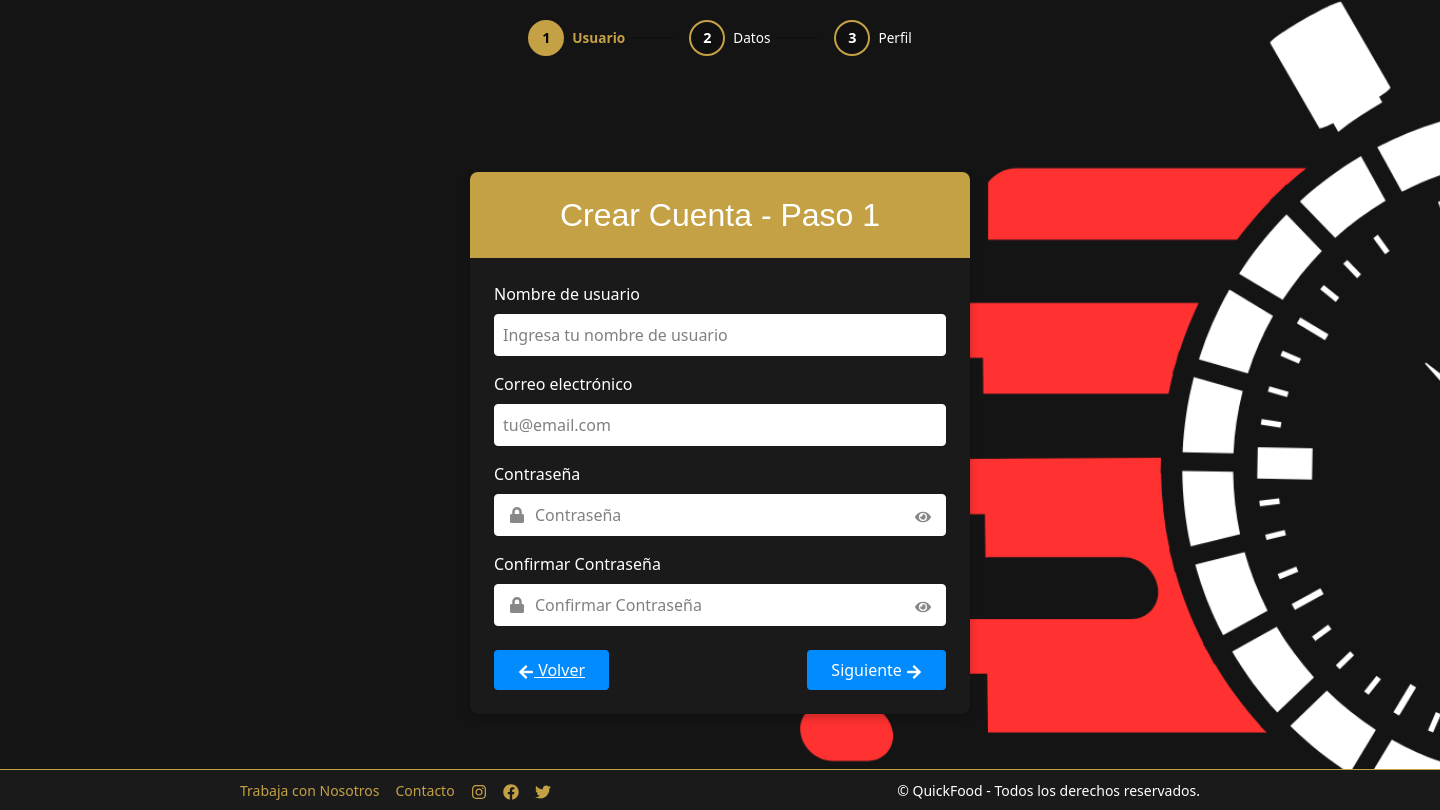
Test: Test de register › debe renderizar el proceso de registro parte 2
The width and height of the screenshot is (1440, 810).
Type "nombre" into the field labelled "Nombre de usuario" at point(720, 335), box [494,314,946,356]
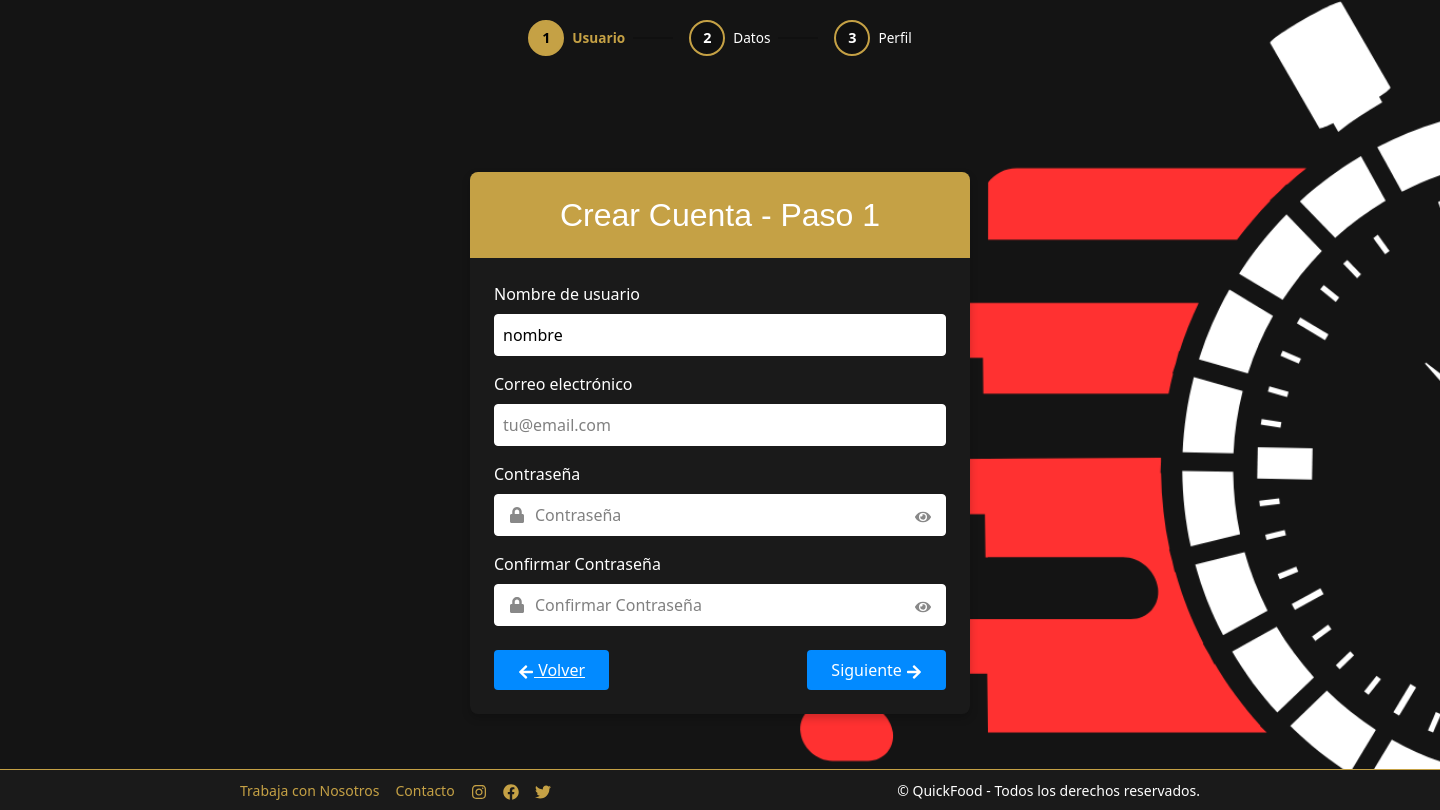
Type "email@gmail.com" into the field labelled "Correo electrónico" at point(720, 425), box [494,404,946,446]
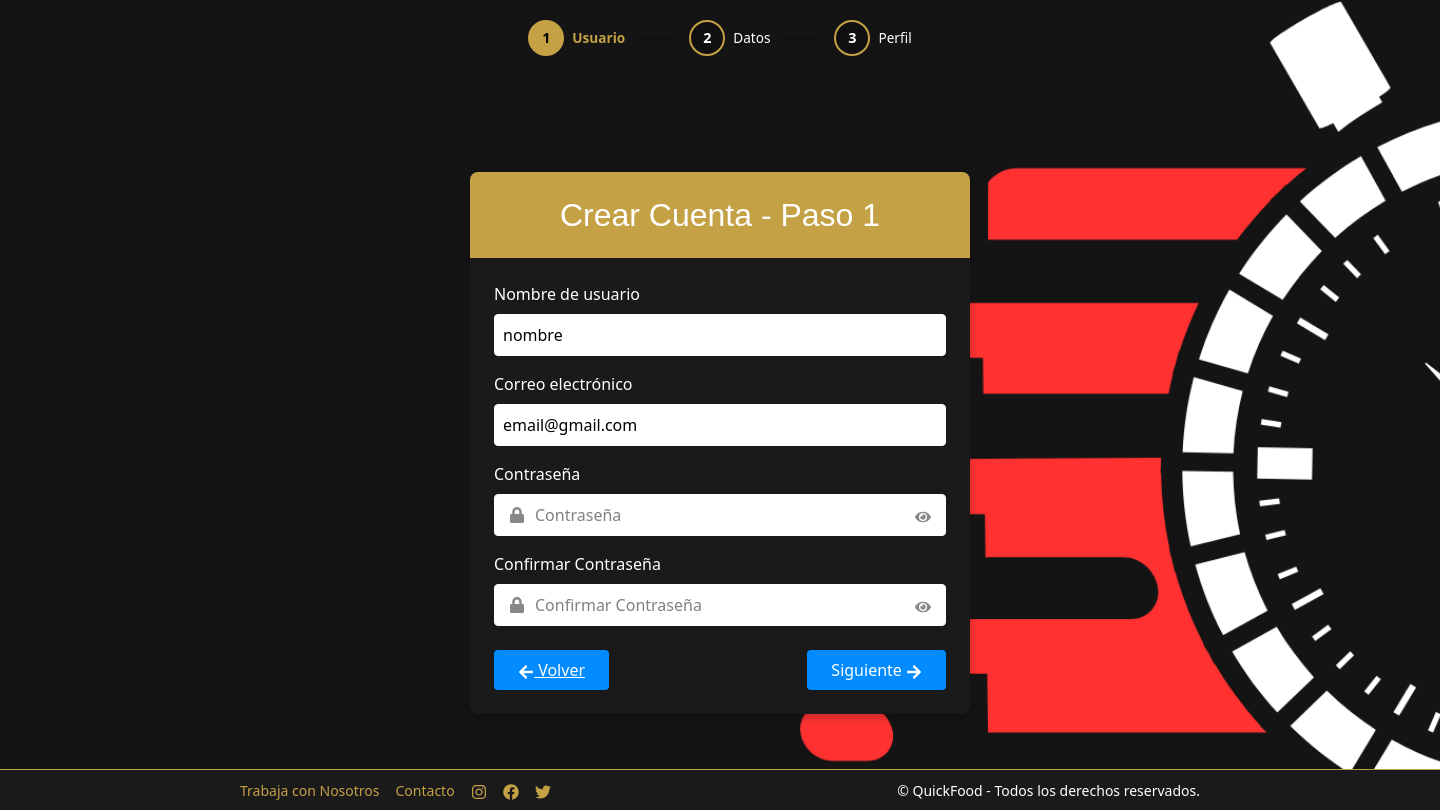
Type "password123" into the password field labelled "Contraseña" at point(720, 515), box [494,494,946,536]
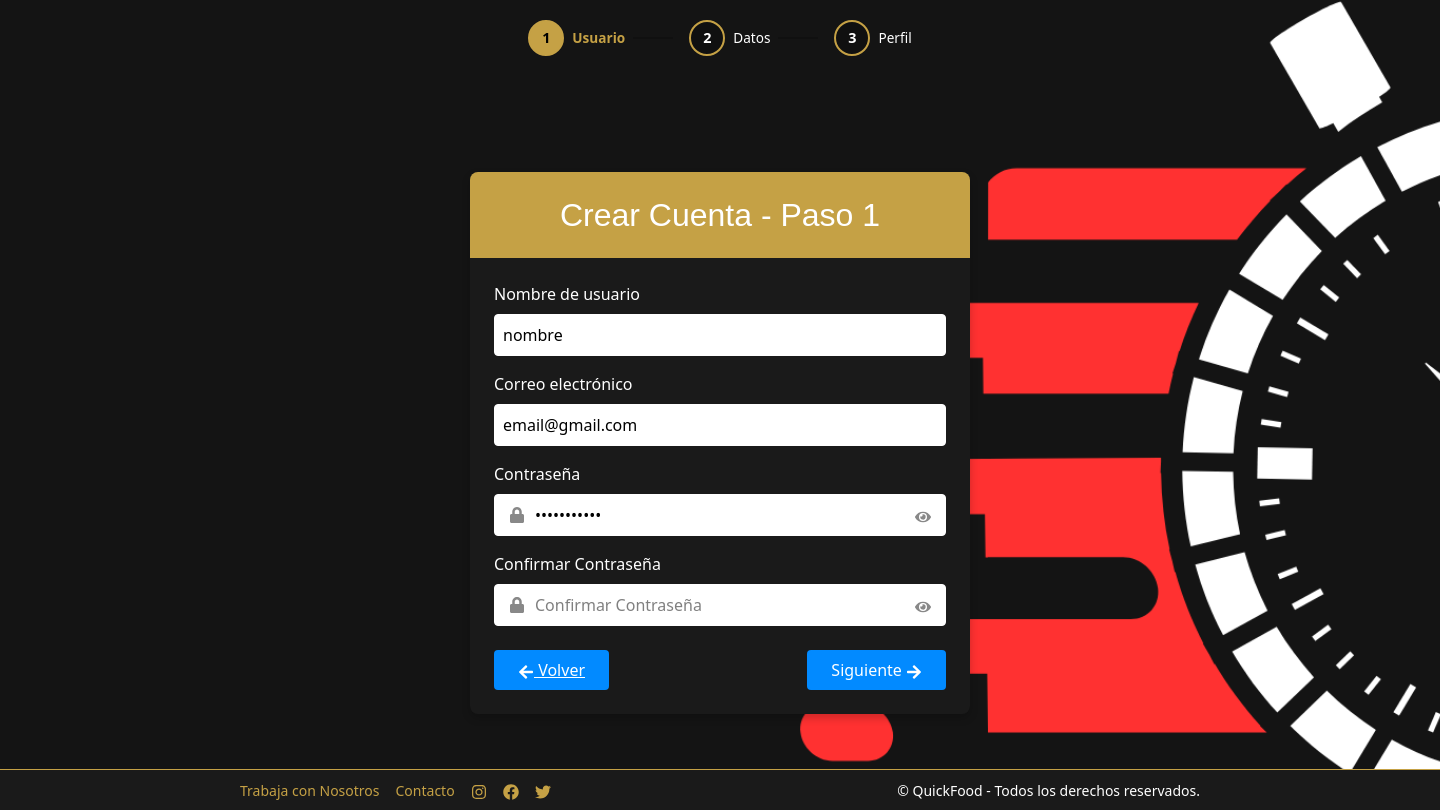
Type "password123" into the password field labelled "Confirmar Contraseña" at point(720, 605), box [494,584,946,626]
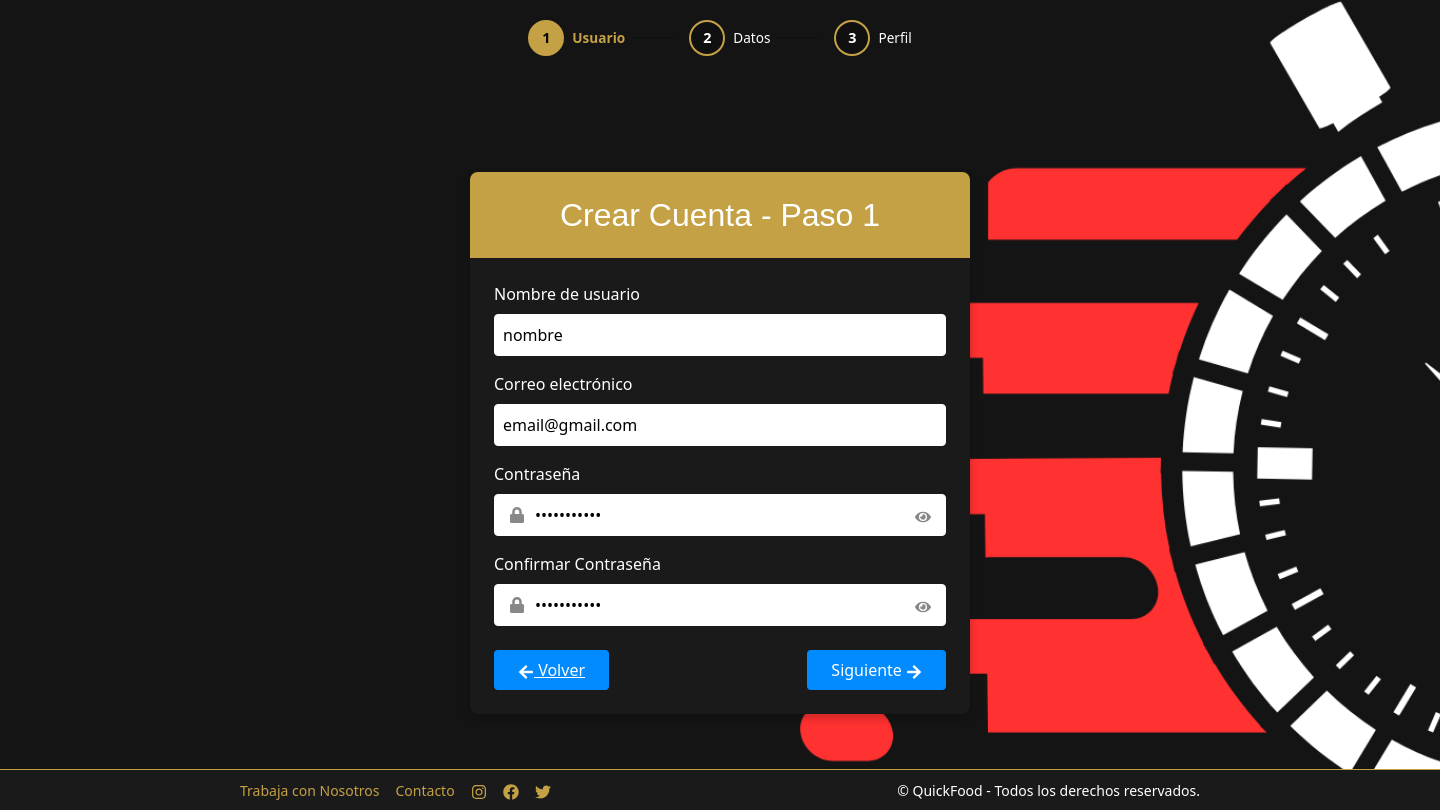
Click the button "Siguiente" at point(877, 670), box [807,650,946,690]
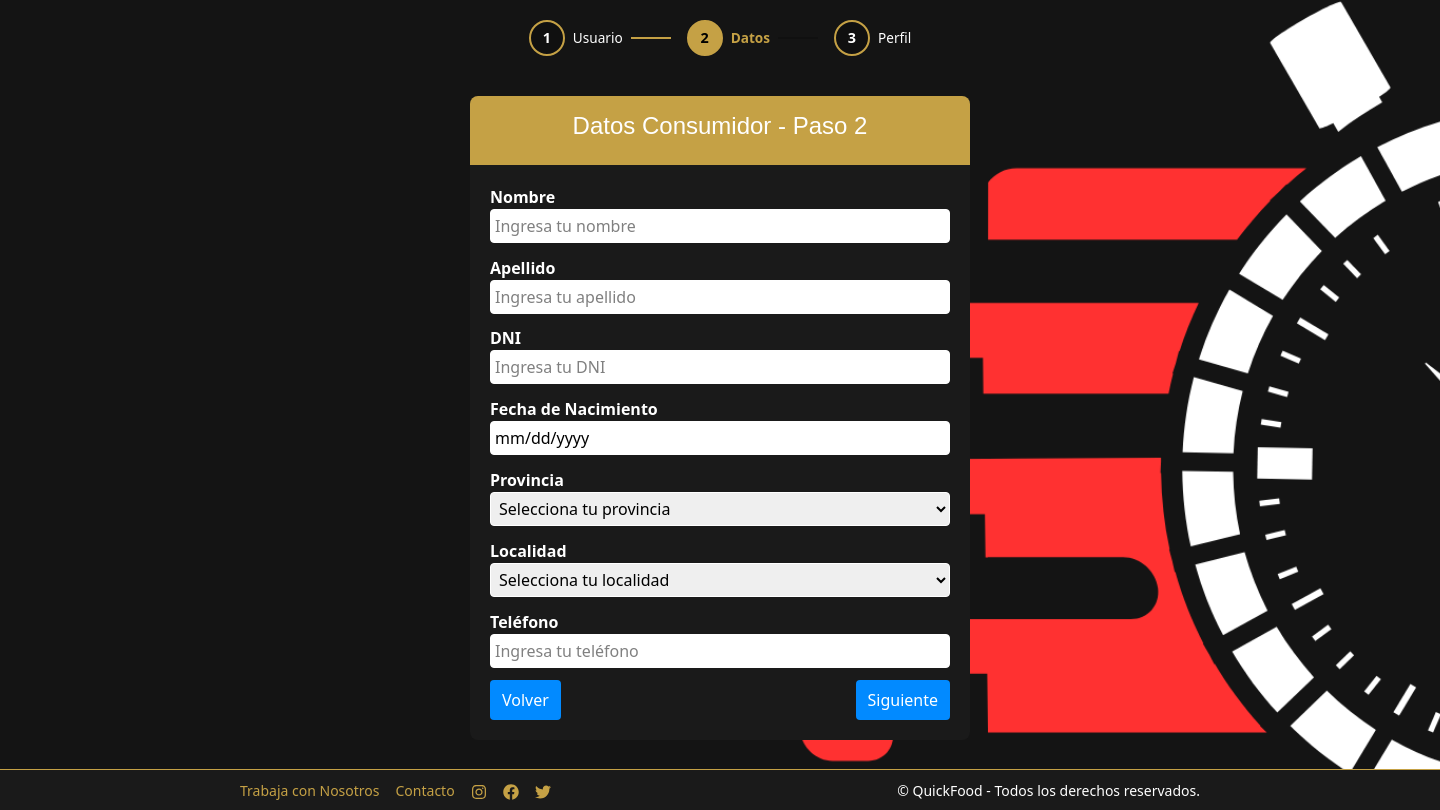
Expected: the text "Nombre" is shown, [490,186,555,208]
Expected: the heading "Datos Consumidor - Paso 2" is shown, [573,112,867,139]
